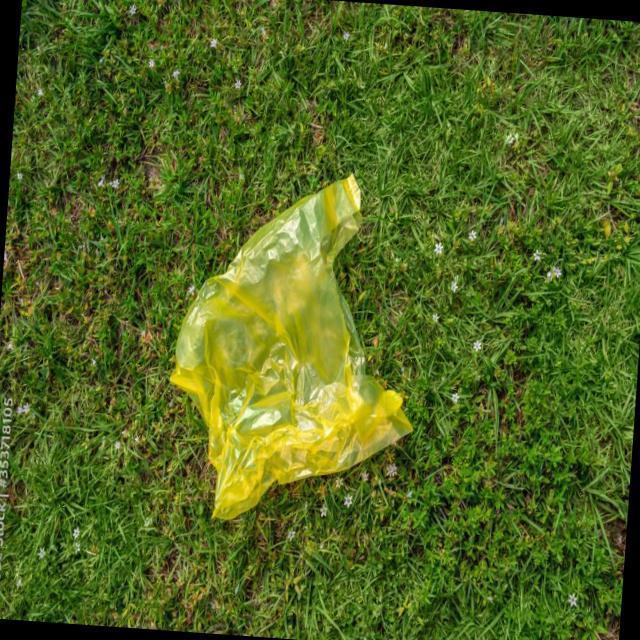Plastic_Bag: (162, 165, 416, 530)
